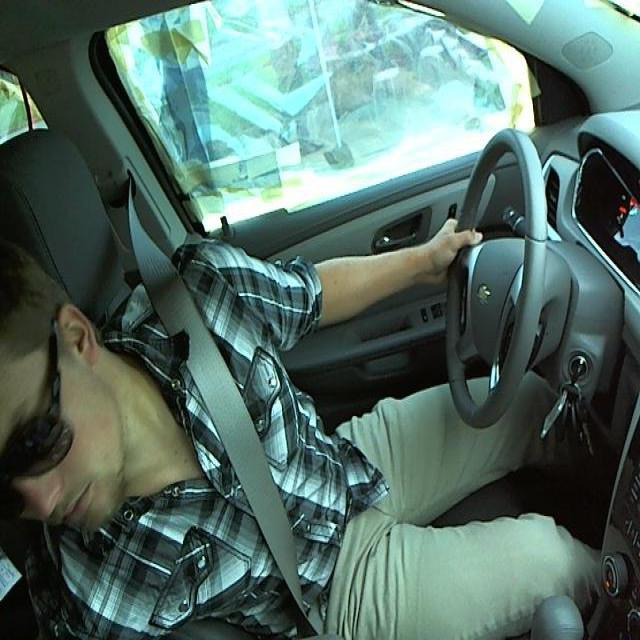seatbelt: (100, 154, 383, 638)
